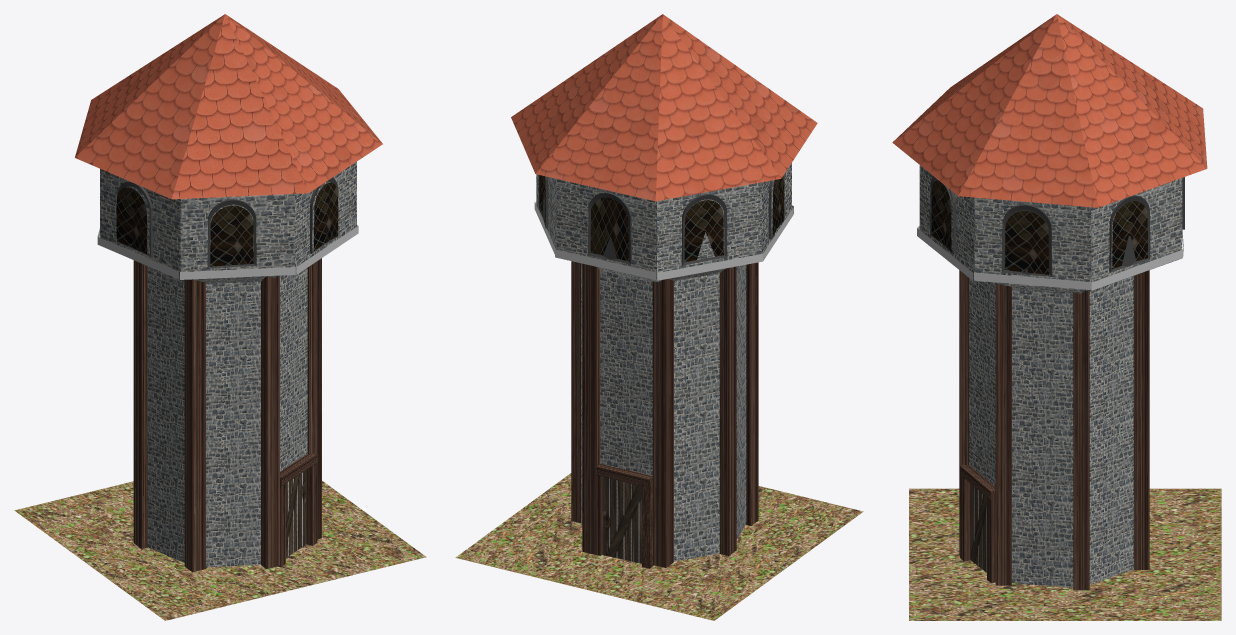
Rendered from HumanWatchtower.fbx.
3 renders of one model, left to right at view 1: azimuth 30°, elevation 25°; view 2: azimuth 150°, elevation 25°; view 3: azimuth 270°, elevation 25°, orthographic. The views are drawn at different scales.
Parts seen in each view (by area): view 1: EstructuraPiedra, Techo, Pilares, Suelo, InteriorVentan6, BandaRoja, Ventanas, Puertas; view 2: EstructuraPiedra, Techo, Pilares, Suelo, InteriorVentan6, Puertas, Ventanas, BandaRoja; view 3: EstructuraPiedra, Techo, Suelo, Pilares, InteriorVentan6, BandaRoja, Ventanas, Puertas.
Boxes of the visible parts, x1=… form: EstructuraPiedra: x1=100, y1=161, x2=356, y2=567; Techo: x1=75, y1=14, x2=382, y2=199; Pilares: x1=133, y1=258, x2=321, y2=572; Suelo: x1=14, y1=480, x2=426, y2=620; InteriorVentan6: x1=116, y1=182, x2=338, y2=266; BandaRoja: x1=97, y1=225, x2=358, y2=279; Ventanas: x1=116, y1=177, x2=338, y2=268; Puertas: x1=286, y1=470, x2=305, y2=557; EstructuraPiedra: x1=536, y1=163, x2=791, y2=561; Techo: x1=511, y1=14, x2=817, y2=201; Pilares: x1=571, y1=261, x2=758, y2=568; Suelo: x1=455, y1=473, x2=863, y2=620; InteriorVentan6: x1=540, y1=175, x2=784, y2=262; Puertas: x1=602, y1=477, x2=641, y2=563; Ventanas: x1=538, y1=175, x2=772, y2=265; BandaRoja: x1=534, y1=202, x2=793, y2=280; EstructuraPiedra: x1=919, y1=165, x2=1182, y2=587; Techo: x1=892, y1=14, x2=1207, y2=207; Suelo: x1=909, y1=488, x2=1221, y2=620; Pilares: x1=959, y1=270, x2=1149, y2=590; InteriorVentan6: x1=931, y1=180, x2=1147, y2=274; BandaRoja: x1=917, y1=226, x2=1183, y2=290; Ventanas: x1=930, y1=176, x2=1184, y2=276; Puertas: x1=970, y1=484, x2=986, y2=572.
Bounding box in the file's own units: 487 × 906 × 500.
